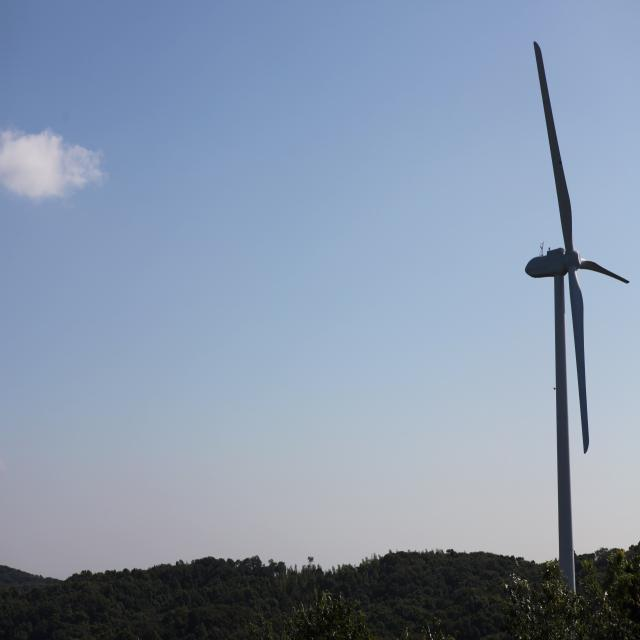bird: (552, 384, 557, 393)
